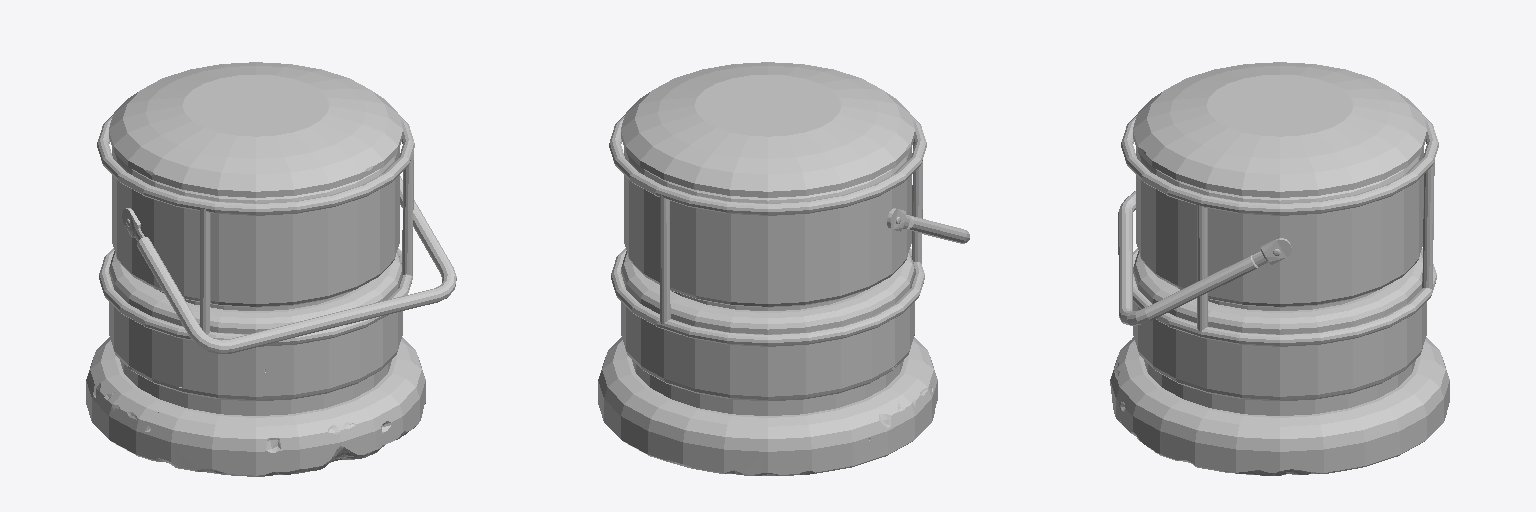
Rendered from Set_A_Container_Style_01.obj.
The picture shows the model from 3 angles: view 1: azimuth 30°, elevation 25°; view 2: azimuth 150°, elevation 25°; view 3: azimuth 270°, elevation 25°; orthographic projection.
Visible parts, largest first — view 1: Set_A_Container_Style_01; view 2: Set_A_Container_Style_01; view 3: Set_A_Container_Style_01.
Part boxes in pixels (x1,y1,x2,y2): Set_A_Container_Style_01: (86,62,456,476); Set_A_Container_Style_01: (598,62,969,475); Set_A_Container_Style_01: (1110,62,1449,475).
Bounding box in the file's own units: 0.2917 × 0.285 × 0.2917.